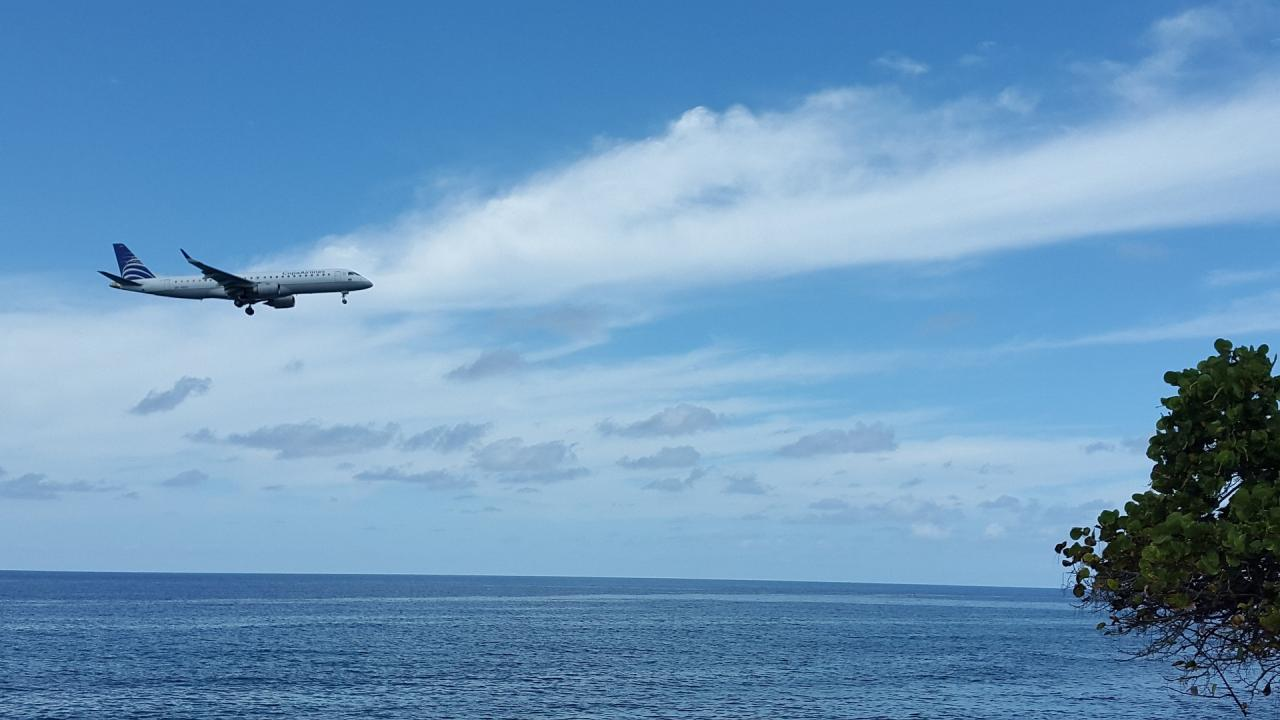Airplane: (88, 232, 378, 323)
